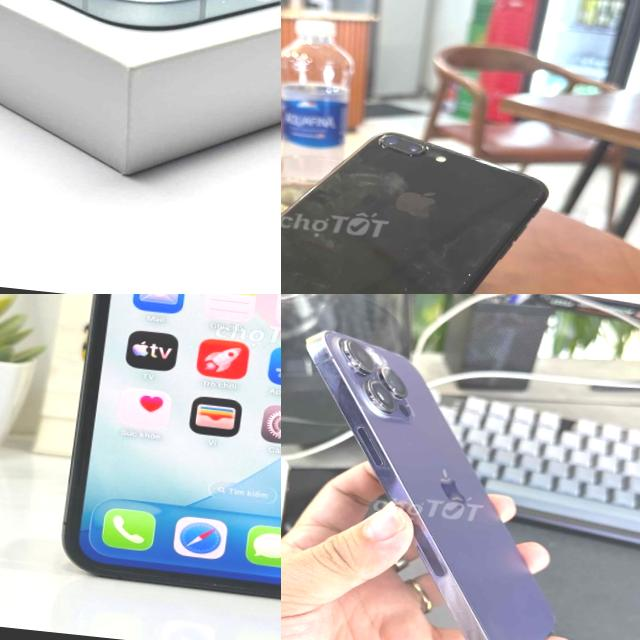gen_11: (41, 294, 281, 617)
gen_14: (281, 324, 601, 640)
gen_15: (0, 0, 281, 76)
gen_7_8: (281, 134, 547, 294)
scratch: (422, 258, 488, 294), (371, 136, 439, 168)
